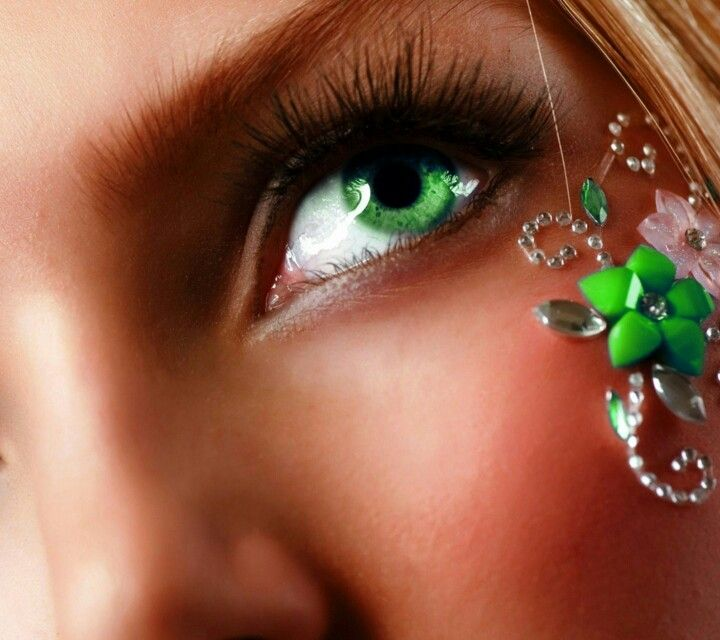iris: (341, 138, 458, 234)
pupil: (367, 156, 425, 207)
